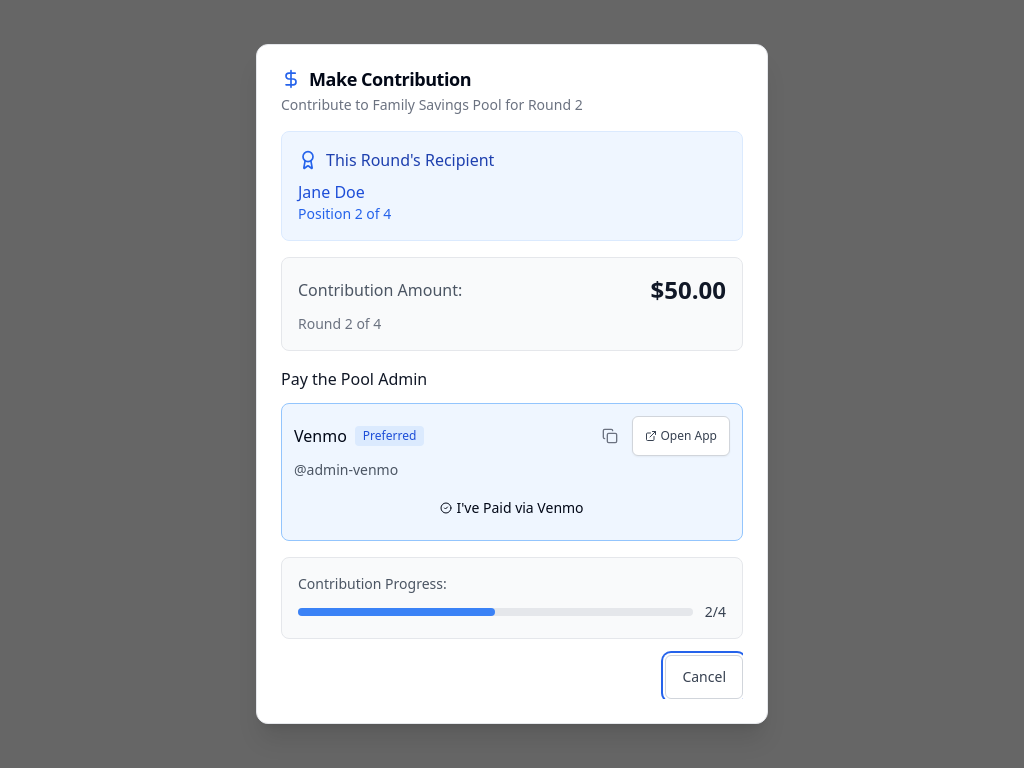
Test: ContributionModal Component › Form Submission › shows error message on payment failure
The width and height of the screenshot is (1024, 768).
Click the button "I've Paid via Venmo" at (512, 508), box [294,488,730,528]
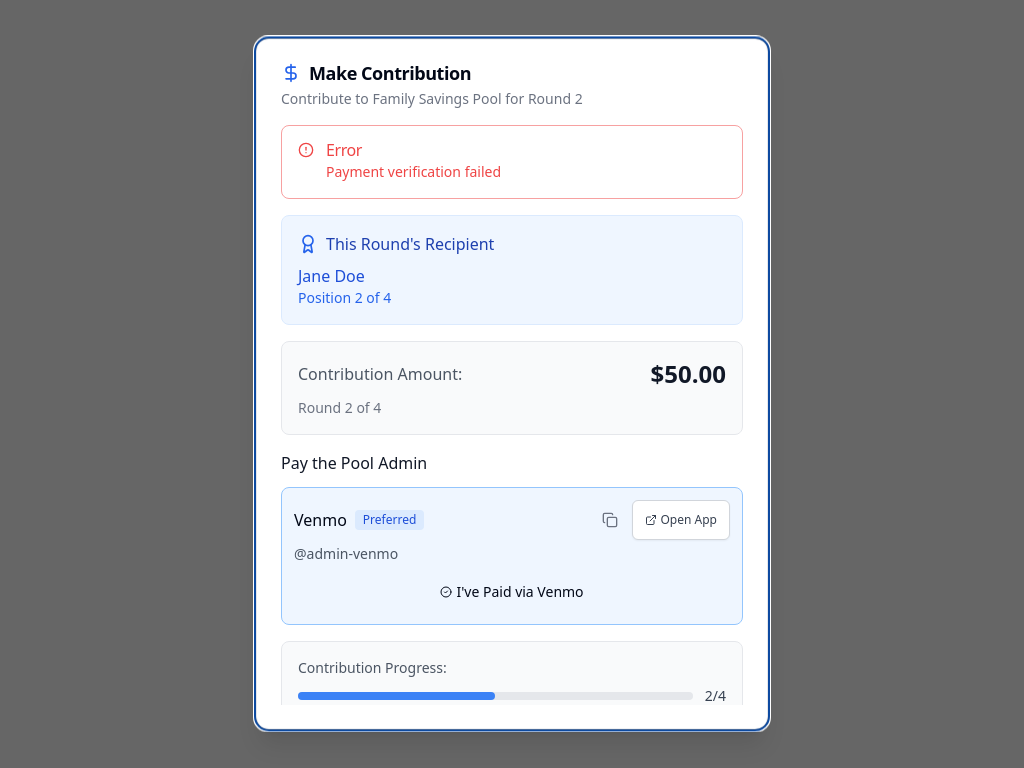
Result: the heading "Error" is shown at [326,139,362,161]
Result: the text "Payment verification failed" is shown at [326,162,501,181]
